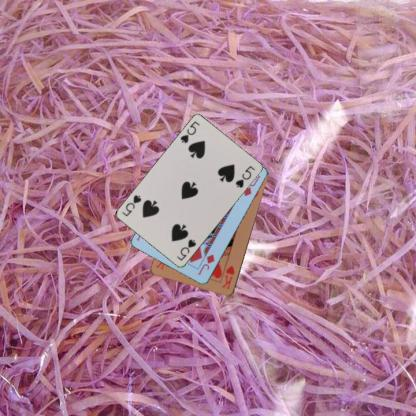5s: (174, 237, 198, 262), (178, 118, 201, 144)
Jd: (195, 252, 216, 276)
Kh: (219, 263, 236, 291)
